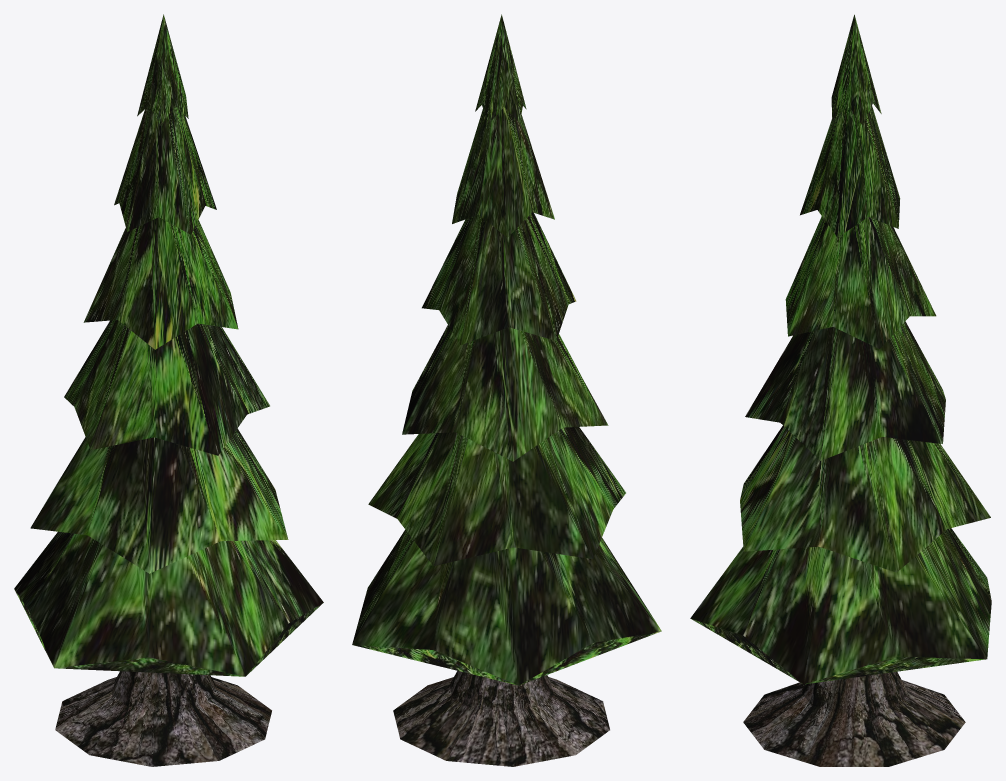
File: PineTree.glb
The picture shows the model from 3 angles, left to right: view 1: azimuth 30°, elevation 25°; view 2: azimuth 150°, elevation 25°; view 3: azimuth 270°, elevation 25°; orthographic projection.
Visible parts, largest first — view 1: Cylinder, Cylinder.001; view 2: Cylinder, Cylinder.001; view 3: Cylinder, Cylinder.001.
Part boxes in pixels (<box>): Cylinder: <box>14,14,323,676</box>; Cylinder.001: <box>55,671,271,766</box>; Cylinder: <box>352,14,661,685</box>; Cylinder.001: <box>393,670,609,766</box>; Cylinder: <box>690,14,991,684</box>; Cylinder.001: <box>743,671,965,766</box>.
Bounding box in the file's own units: 6.32 × 15.82 × 6.1.
2 materials, 2 textured.
